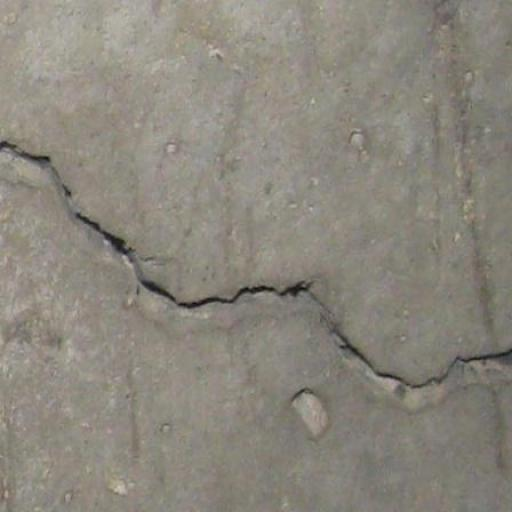spalling: (2, 127, 512, 404)
